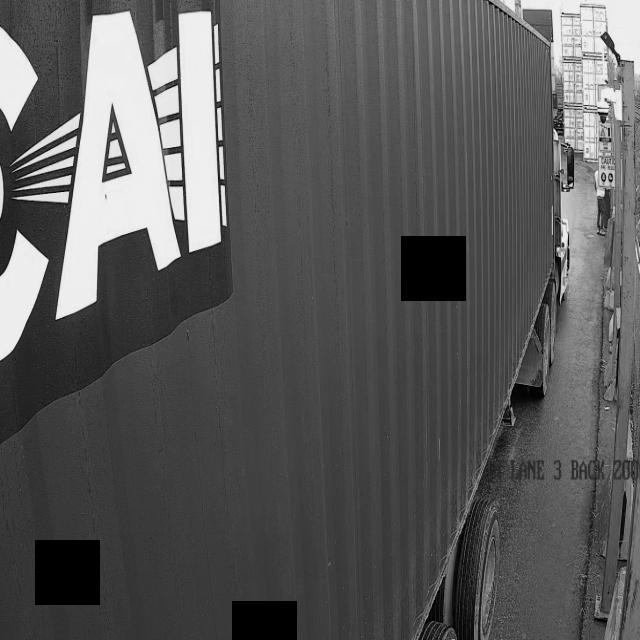container_company_logo: (0, 0, 250, 370)
truck_with_container: (0, 0, 568, 640)
